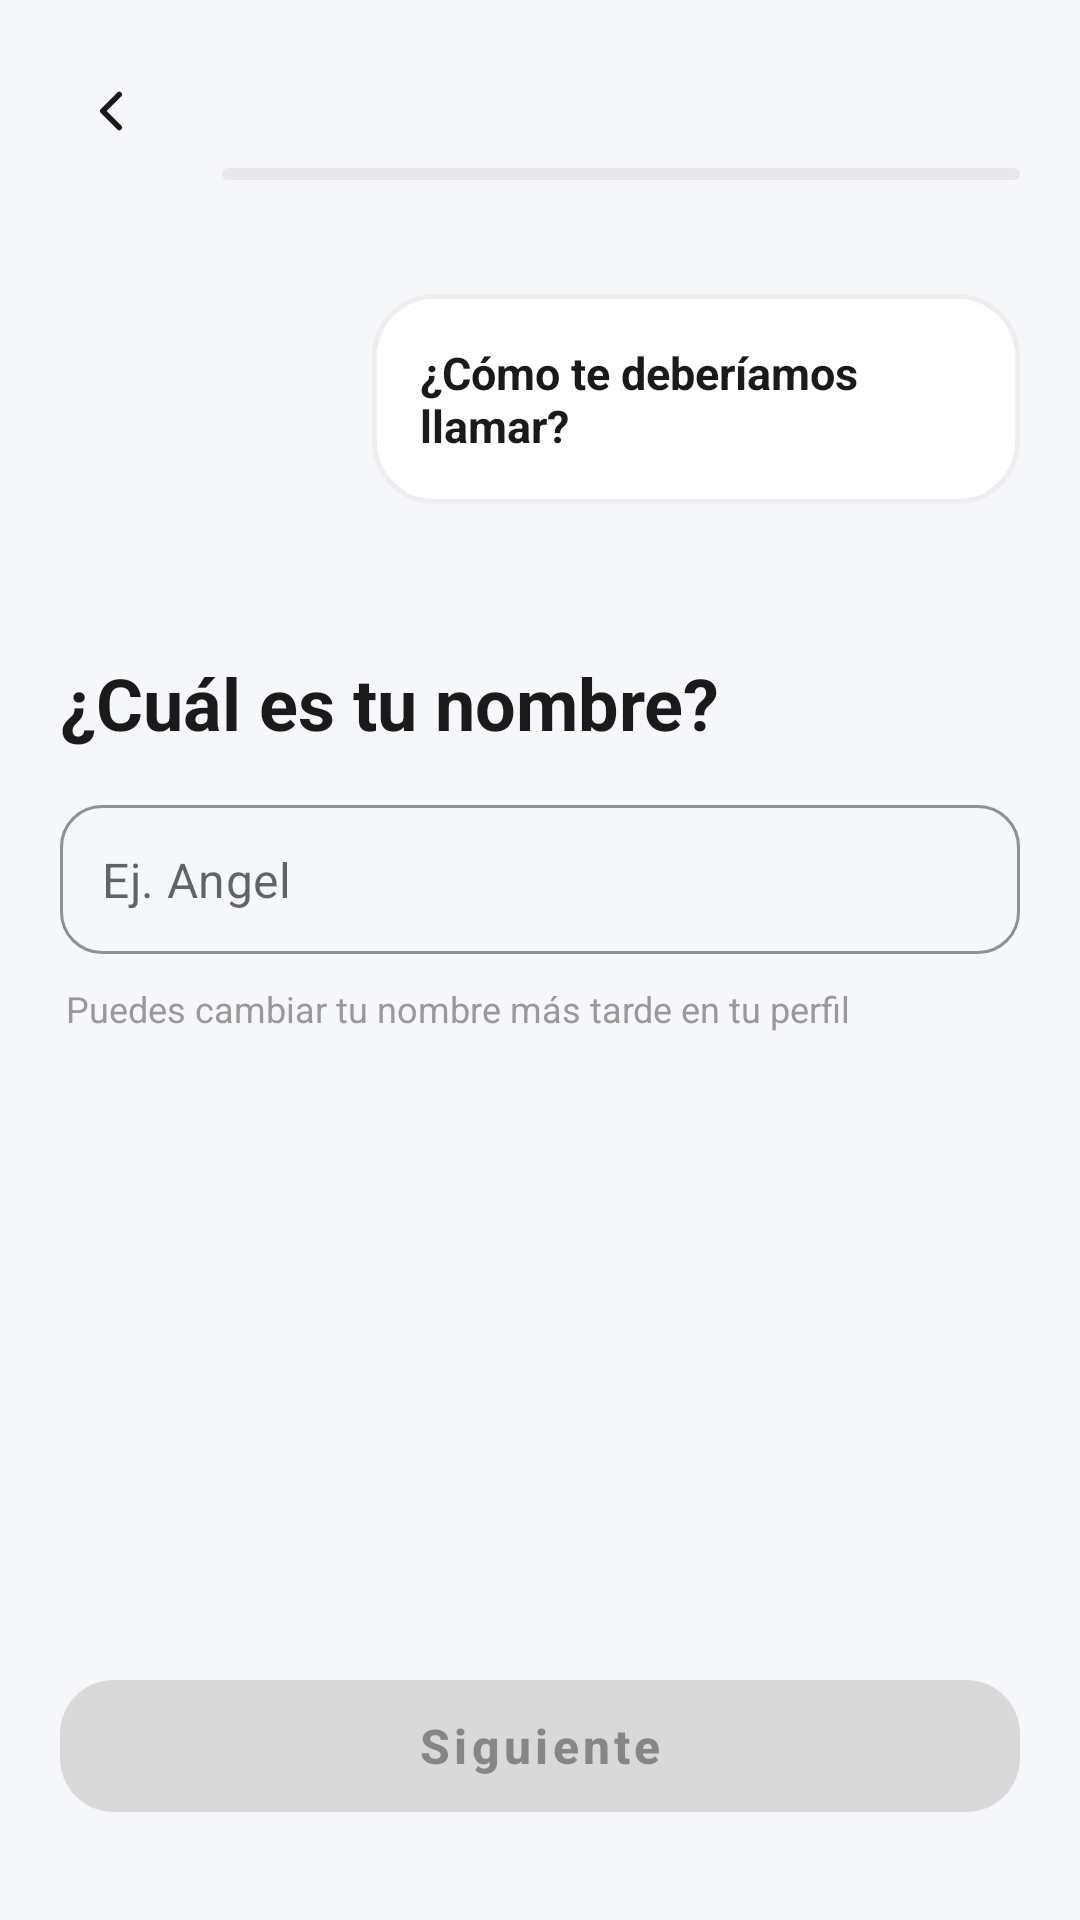

Where to tap for icons on this 1080px×1920px app screen, as (x,y):
Volver: (111,111)
